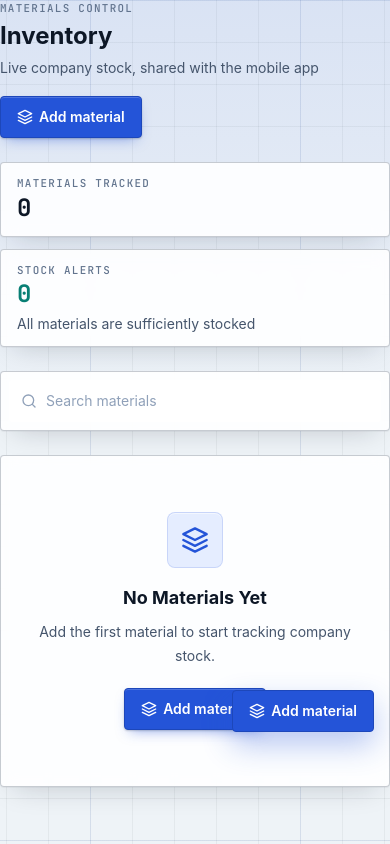
Test: floating add buttons › renders the Add Material floating button on Inventory and opens the add dialog
Click the 3rd button "Add material".
click(303, 711)  # box [232, 690, 374, 732]
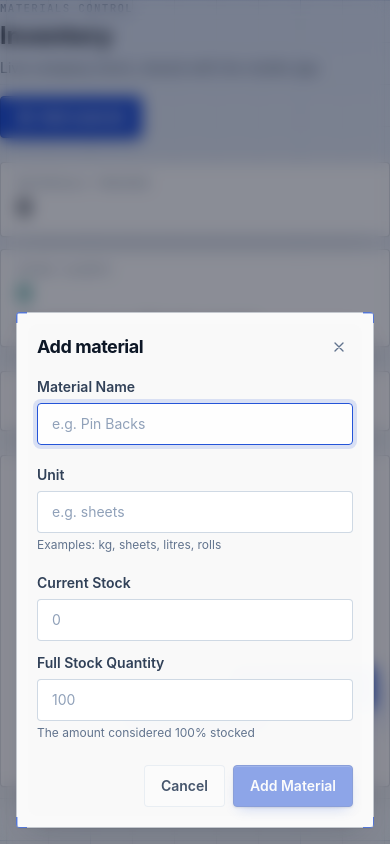
expect the dialog shows "Add material": met, box [37, 336, 143, 357]
